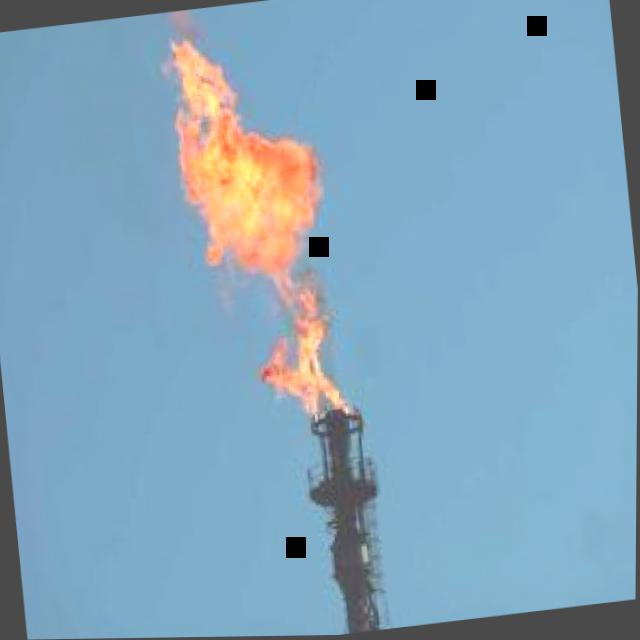fire: (171, 40, 355, 413)
